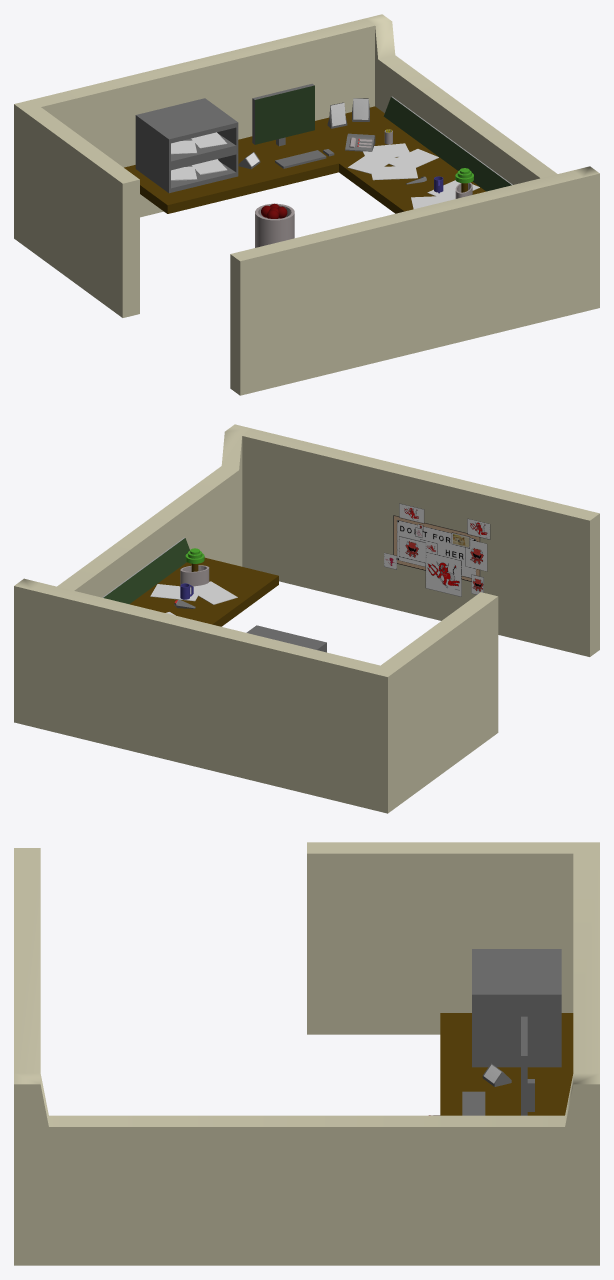
The model's file is Office SetUp v3.fbx.
3 views of the same model, one above another, from view 1: azimuth 30°, elevation 25°; view 2: azimuth 150°, elevation 25°; view 3: azimuth 270°, elevation 25° (orthographic). The views are drawn at different scales.
Parts seen in each view (by area): view 1: Cubicle, Desk, FileCabnet1, Monitor, SoulCounter, FileCabnet, Bin5, Paper2, Paper4, Paper3, Paper1, Phone (+1 smaller); view 2: Cubicle, Picture1, Desk, SoulCounter, FileCabnet1, Paper5, Tree; view 3: Cubicle, FileCabnet1, Desk, FileCabnet, Monitor, Keybord.
Boxes of the visible parts, x1,y1,x2,y2 form: Cubicle: (14,14,599,395); Desk: (124,106,485,213); FileCabnet1: (135,98,238,165); Monitor: (252,83,314,146); SoulCounter: (383,96,512,191); FileCabnet: (135,142,238,193); Bin5: (255,203,294,247); Paper2: (387,149,438,170); Paper4: (347,151,396,174); Paper3: (371,166,417,180); Paper1: (362,143,411,159); Phone: (345,133,375,151); Cubicle: (14,424,599,813); Picture1: (384,503,490,596); Desk: (130,557,278,626); SoulCounter: (102,537,189,604); FileCabnet1: (246,625,326,652); Paper5: (190,581,237,604); Tree: (180,565,209,586); Cubicle: (14,842,599,1265); FileCabnet1: (472,949,561,1031); Desk: (440,1013,573,1115); FileCabnet: (472,1031,561,1067); Monitor: (521,1016,534,1115); Keybord: (462,1091,485,1115).
Bounding box in the file's own units: 4.3 × 1.74 × 4.4.
13 materials, 1 textured.
